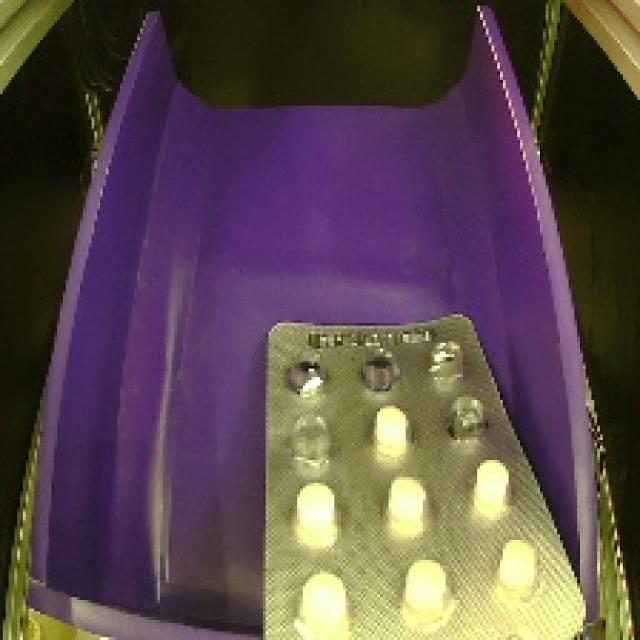med_plate: (246, 300, 591, 640)
